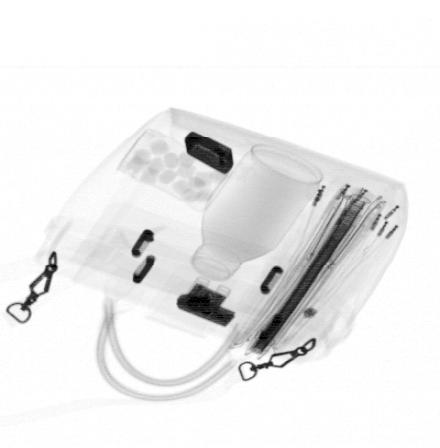Lighter: (183, 131, 235, 174)
